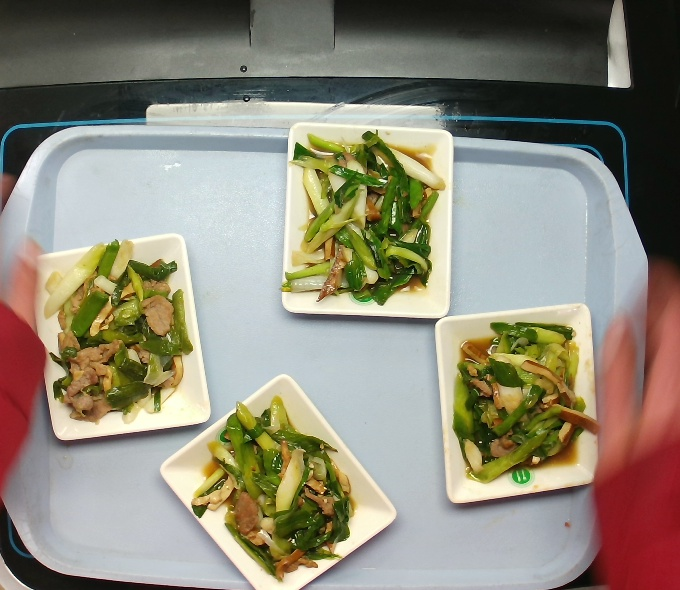wcq-SuanYeChaoRou: (184, 390, 363, 590), (33, 233, 198, 436), (273, 124, 449, 314), (443, 314, 606, 494)
